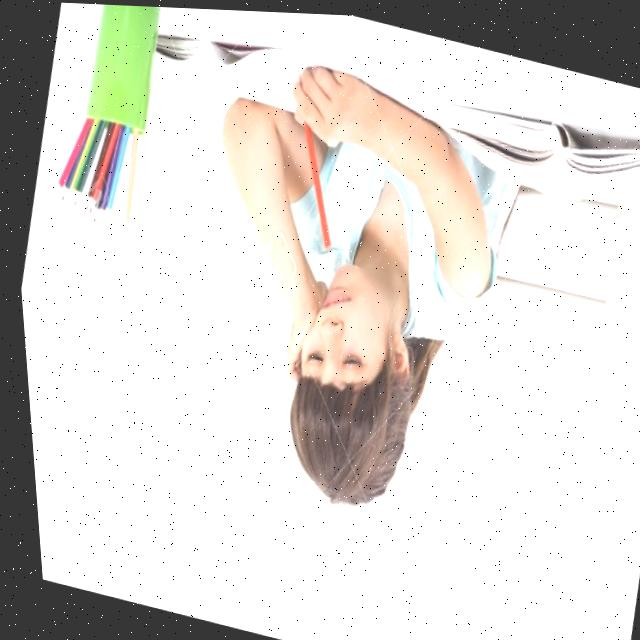studying-person: (70, 2, 640, 574)
